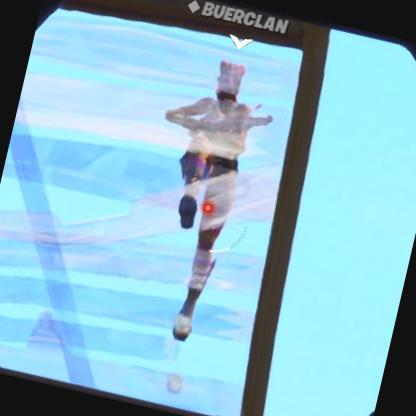person: (138, 48, 291, 300)
